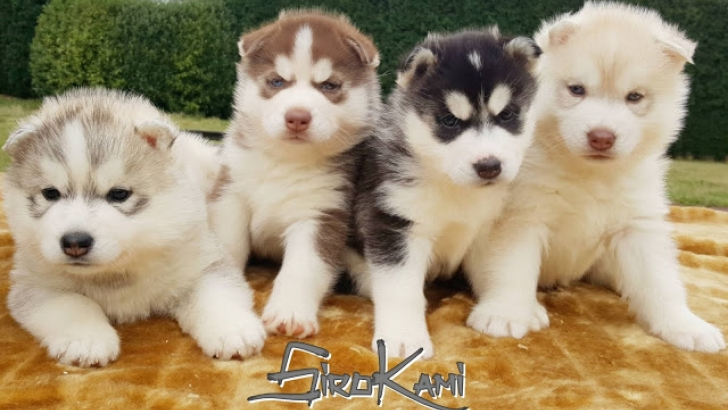husky: (3, 79, 200, 317), (529, 4, 709, 174), (395, 19, 542, 215), (224, 10, 381, 172)
